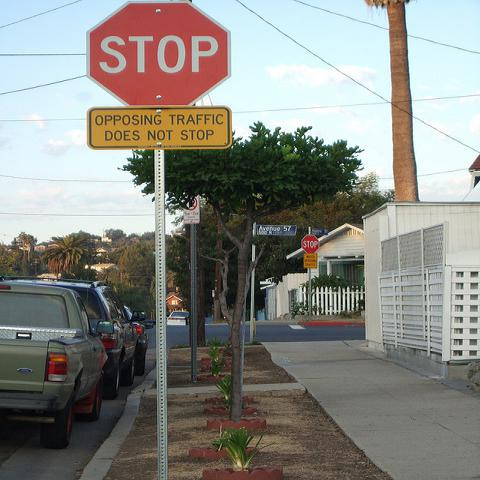car: (0, 274, 118, 448), (18, 276, 140, 400), (123, 305, 148, 368), (166, 311, 190, 326)
truck: (0, 281, 109, 449)
